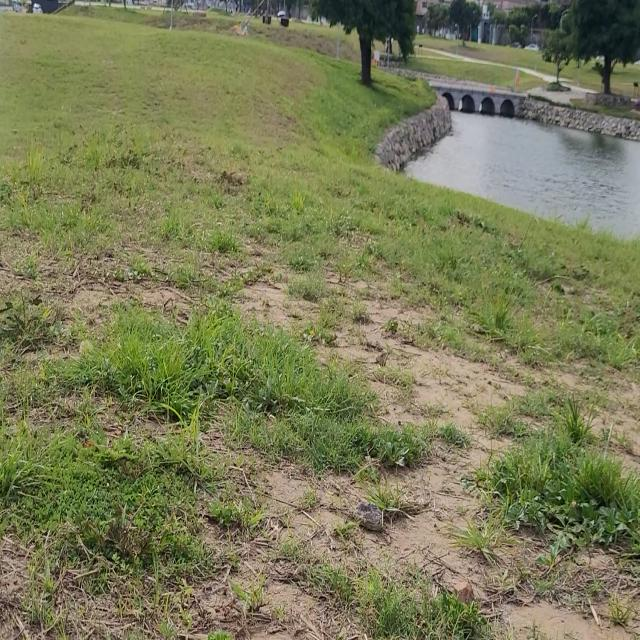grass: (0, 16, 640, 639)
